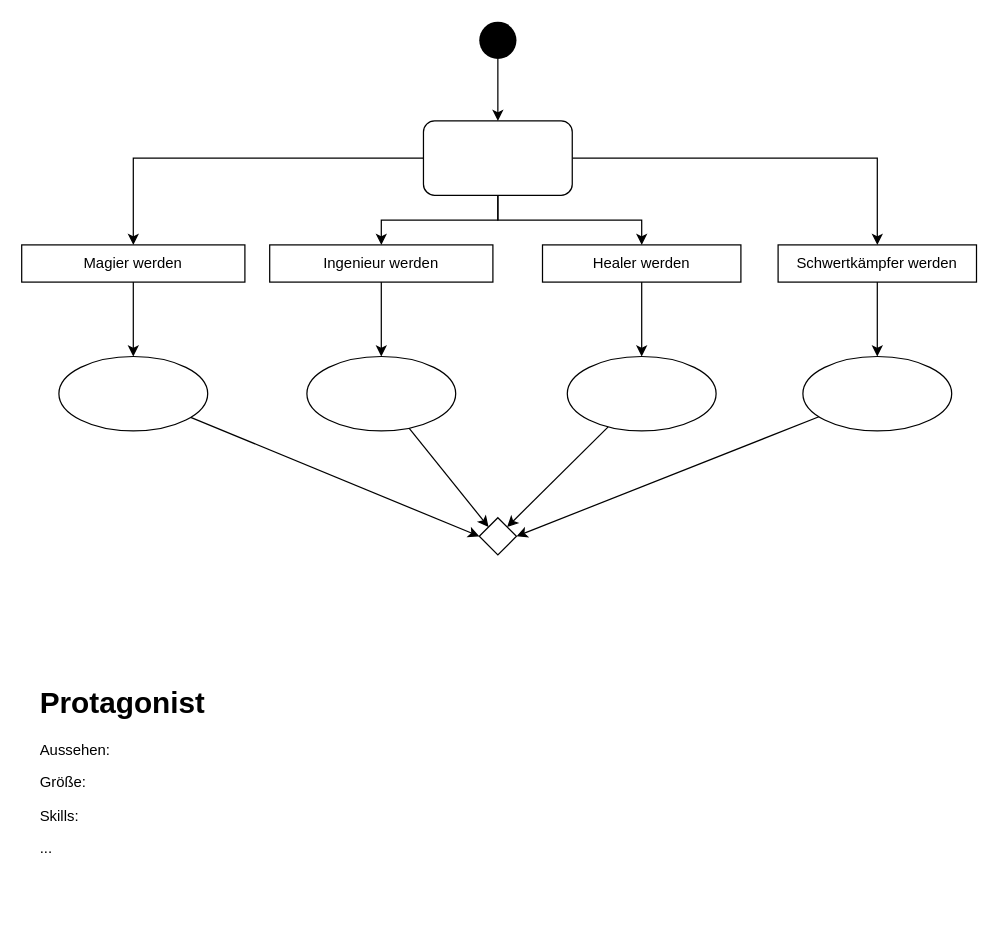
Some shapes in this 998 by 942 pixel diagram are drawn without their labels. The box of each missing label's shape, as (x1, y1, x2, y2) in pixels:
Akademie: (422, 120, 572, 195)
Begrüßung durch Magier: (58, 355, 208, 431)
